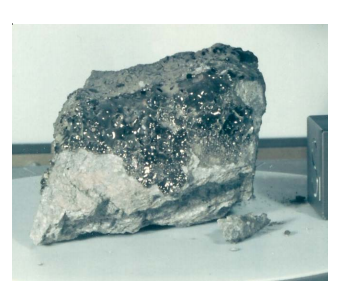Breccia: (37, 34, 293, 257)
